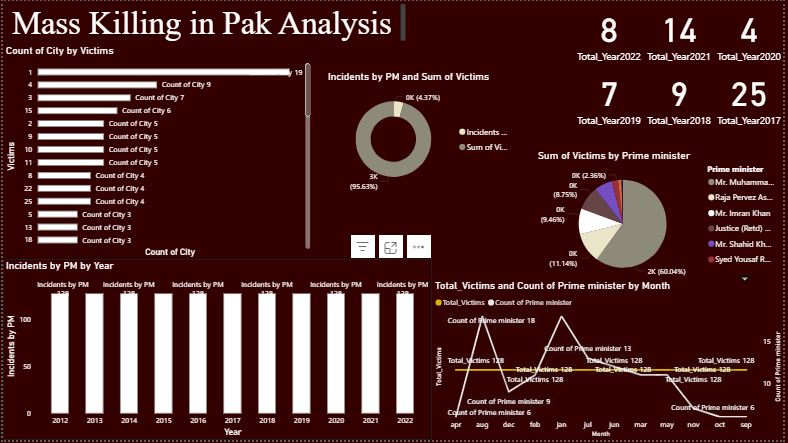

The page's visual inventory and layout, read from the dashboard file:
{"tool":"powerbi","page":{"name":"Page 1","canvas":[1280,720],"ordinal":0},"visuals":[{"type":"textbox","box":[10.3,0,655.3,70.5],"z":0},{"type":"columnChart","fields":{"Category":["mass-killing-in-pakistan.Year"],"Y":["mass-killing-in-pakistan.Incidents by PM"]},"box":[0,423.8,702.5,296.2],"z":1000},{"type":"lineChart","fields":{"Category":["mass-killing-in-pakistan.Month"],"Y":["mass-killing-in-pakistan.Total_Victims"],"Y2":["mass-killing-in-pakistan.Prime minister"]},"box":[702.5,455,577.5,265],"z":2000},{"type":"barChart","fields":{"Y":["mass-killing-in-pakistan.City"],"Category":["mass-killing-in-pakistan.Victims"]},"box":[0,70,508.8,353.8],"z":3000},{"type":"card","fields":{"Values":["mass-killing-in-pakistan.Total_Year2020"]},"box":[1165.2,0,114.6,104.3],"z":4000},{"type":"card","fields":{"Values":["mass-killing-in-pakistan.Total_Year2021"]},"box":[1050.6,0,114.6,104.3],"z":5000},{"type":"card","fields":{"Values":["mass-killing-in-pakistan.Total_Year2019"]},"box":[936,104.3,114.6,104.3],"z":6000},{"type":"card","fields":{"Values":["mass-killing-in-pakistan.Total_Year2022"]},"box":[936,0,114.6,104.3],"z":7000},{"type":"card","fields":{"Values":["mass-killing-in-pakistan.Total_Year2018"]},"box":[1050.6,104.3,114.6,104.3],"z":8000},{"type":"card","fields":{"Values":["mass-killing-in-pakistan.Total_Year2017"]},"box":[1165.2,104.3,114.6,104.3],"z":9000},{"type":"pieChart","fields":{"Y":["mass-killing-in-pakistan.Victims"],"Category":["mass-killing-in-pakistan.Prime minister"]},"box":[872.5,242.5,407.5,226.2],"z":10000},{"type":"donutChart","fields":{"Y":["mass-killing-in-pakistan.Incidents by PM","mass-killing-in-pakistan.Victims"]},"box":[527.5,113.8,316.2,207.5],"z":11000}]}

Visuals, with their boxes in screenshot pixels (x1, y1, x2, y2), scaled from the page's 1280x720 canvas onto the 788x443 screenshot:
textbox: <box>6,0,410,43</box>
columnChart - mass-killing-in-pakistan.Year x mass-killing-in-pakistan.Incidents by PM: <box>0,261,432,442</box>
lineChart - mass-killing-in-pakistan.Month x mass-killing-in-pakistan.Total_Victims: <box>432,280,787,442</box>
barChart - mass-killing-in-pakistan.City x mass-killing-in-pakistan.Victims: <box>0,43,313,261</box>
card - mass-killing-in-pakistan.Total_Year2020: <box>717,0,787,64</box>
card - mass-killing-in-pakistan.Total_Year2021: <box>647,0,717,64</box>
card - mass-killing-in-pakistan.Total_Year2019: <box>576,64,647,128</box>
card - mass-killing-in-pakistan.Total_Year2022: <box>576,0,647,64</box>
card - mass-killing-in-pakistan.Total_Year2018: <box>647,64,717,128</box>
card - mass-killing-in-pakistan.Total_Year2017: <box>717,64,787,128</box>
pieChart - mass-killing-in-pakistan.Victims x mass-killing-in-pakistan.Prime minister: <box>537,149,787,288</box>
donutChart - mass-killing-in-pakistan.Incidents by PM x mass-killing-in-pakistan.Victims: <box>325,70,519,198</box>
